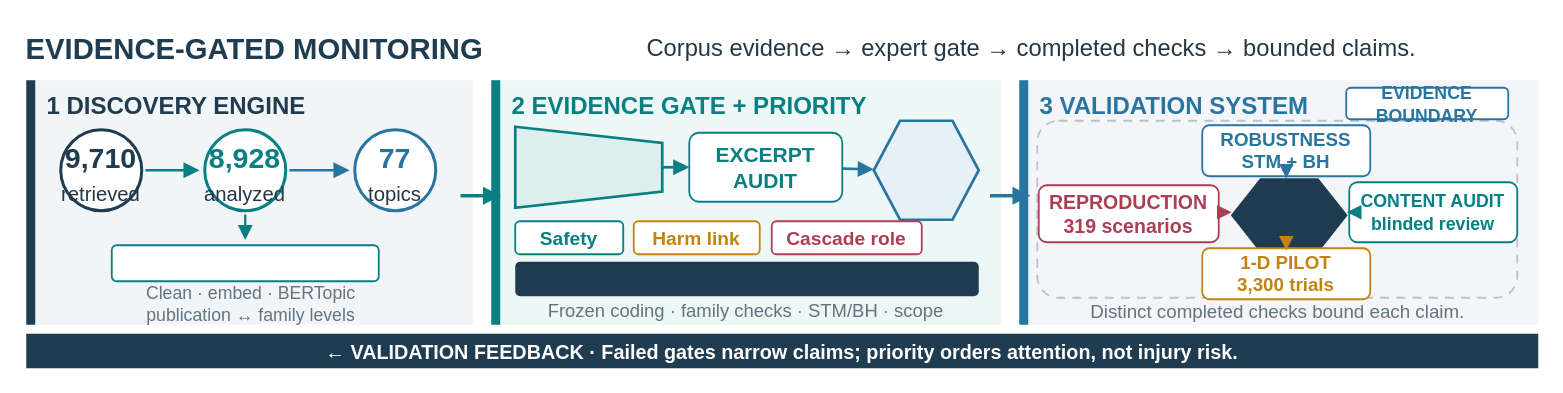
This 1563x393 diagram has some shape labels left out. The centre of each missing label's shape, as x and y in pixels:
6,602 canonical families: pixel 244 262
BOUND CLAIM: pixel 1288 214
HIGH • MEDIUM • LOW: pixel 746 278
Keyword + LLM 77 → 20: pixel 588 166
Rⱼ = 10 Sⱼ Dⱼ Lⱼ: pixel 925 169
